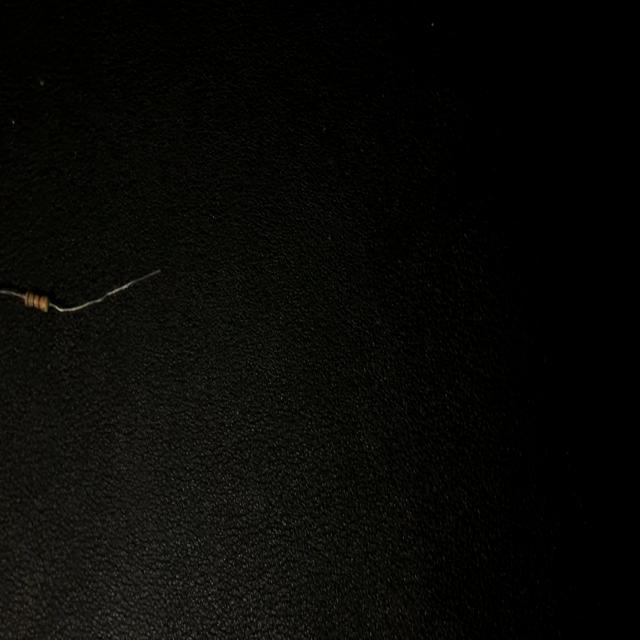resistor: (0, 254, 161, 319)
